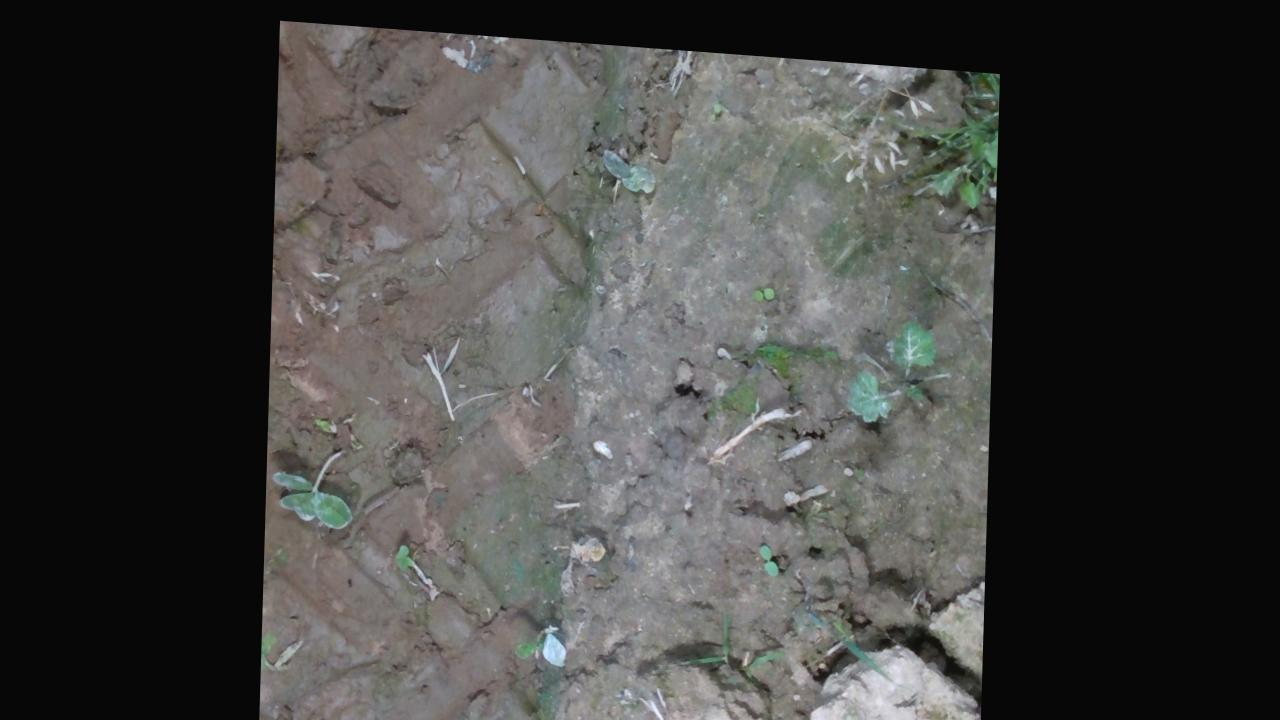weed: (759, 532, 782, 566), (751, 275, 777, 292)
